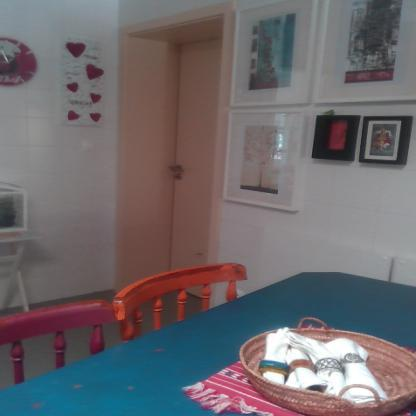door: (169, 44, 217, 297)
lever: (170, 166, 187, 173)
